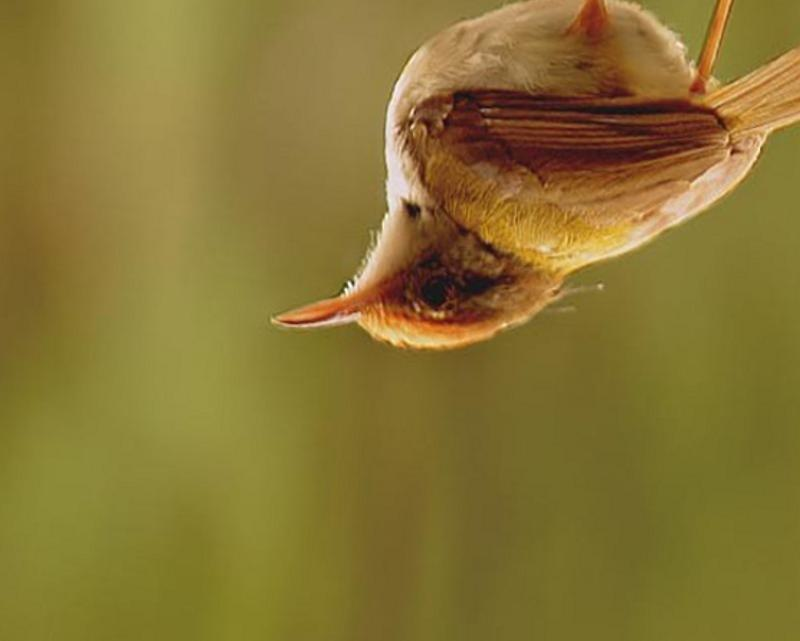tailorbird: (280, 1, 784, 383)
